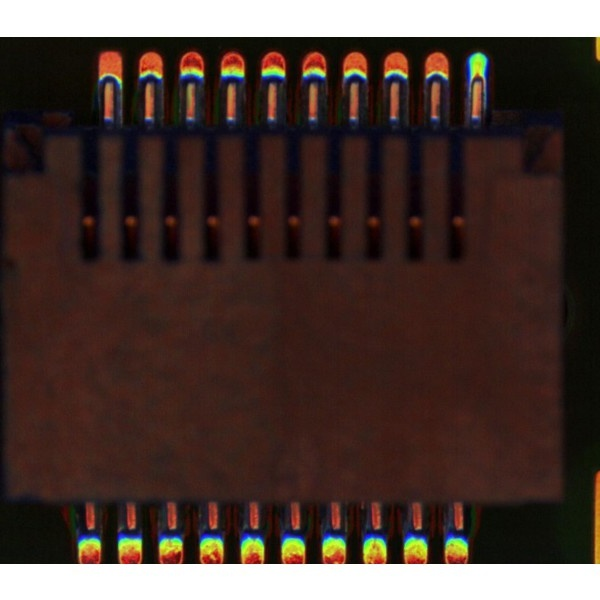Bad_qiaojiao: (467, 83, 472, 116), (483, 81, 487, 119)
